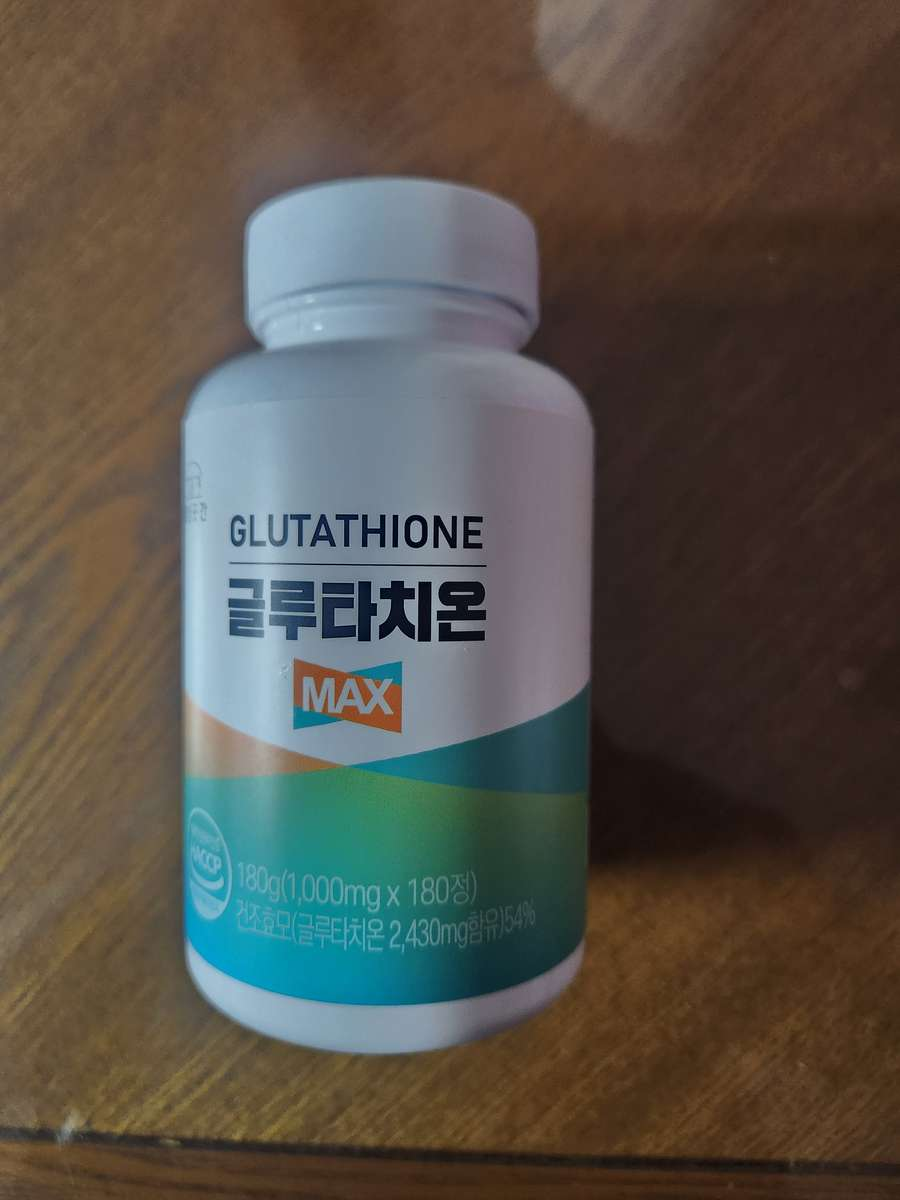supplement_label: (154, 392, 594, 1004)
